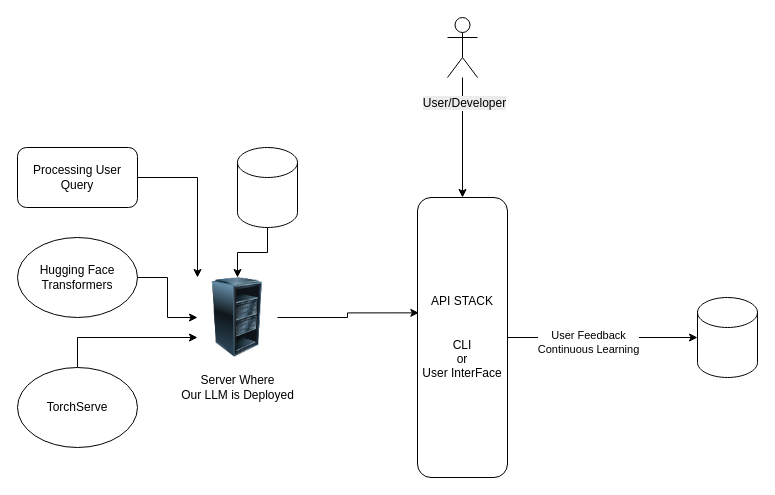
Some shapes in this 775 by 495 pixel diagram are drawn without their labels. The centre of each missing label's shape, as x and y in pixels:
"DataBase" goes at point 727,337.
"Model Storage" goes at point 267,187.
